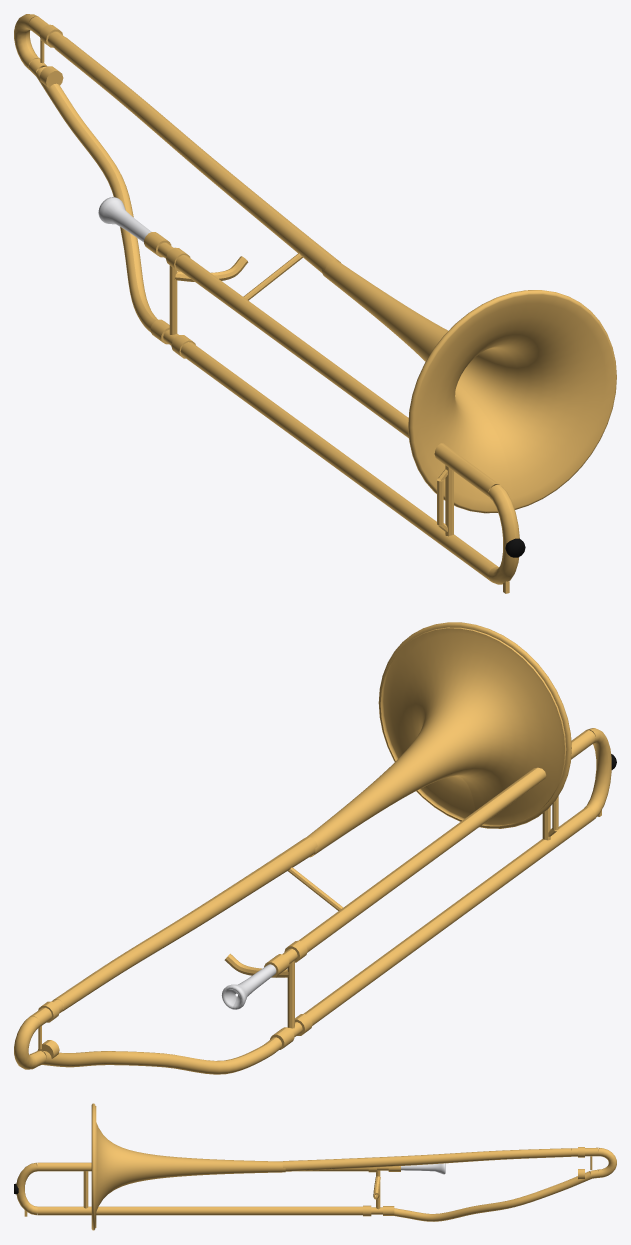
File: trombone.glb
3 views of the same model, one above another, from view 1: azimuth 30°, elevation 25°; view 2: azimuth 150°, elevation 25°; view 3: azimuth 270°, elevation 25° (orthographic). The views are drawn at different scales.
Parts seen in each view (by area): view 1: trombone_brass, slide_brass, trombone_silver; view 2: trombone_brass, slide_brass, trombone_silver; view 3: trombone_brass, slide_brass, trombone_silver.
Part boxes in pixels (x1,y1,x2,y2): trombone_brass: (14,14,616,513); slide_brass: (166,247,519,593); trombone_silver: (98,197,151,242); trombone_brass: (14,622,571,1074); slide_brass: (284,728,611,1035); trombone_silver: (221,964,276,1009); trombone_brass: (91,1103,616,1230); slide_brass: (16,1162,376,1216); trombone_silver: (401,1163,445,1174).
Bounding box in the file's own units: 0.2225 × 0.2439 × 1.06.
